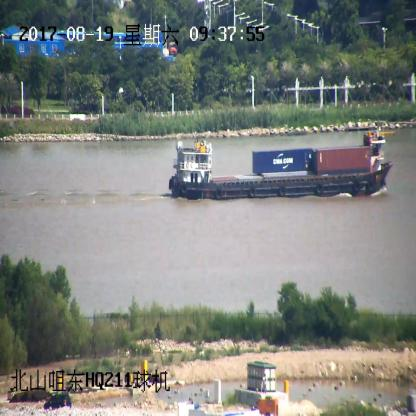Container Ship: (169, 132, 394, 199)
